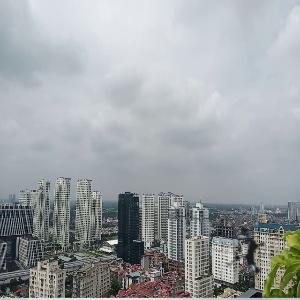drone: (204, 210, 292, 298)
